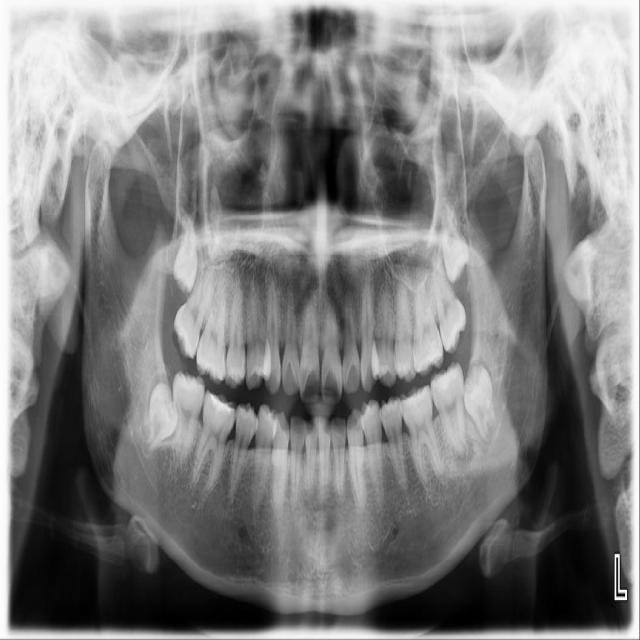Filling: (207, 394, 234, 415)
Periapical lesion: (451, 441, 468, 465), (224, 488, 240, 512), (465, 438, 475, 461), (343, 279, 356, 296)
impacted tooth: (437, 189, 469, 279), (464, 367, 496, 444), (175, 207, 201, 293)
